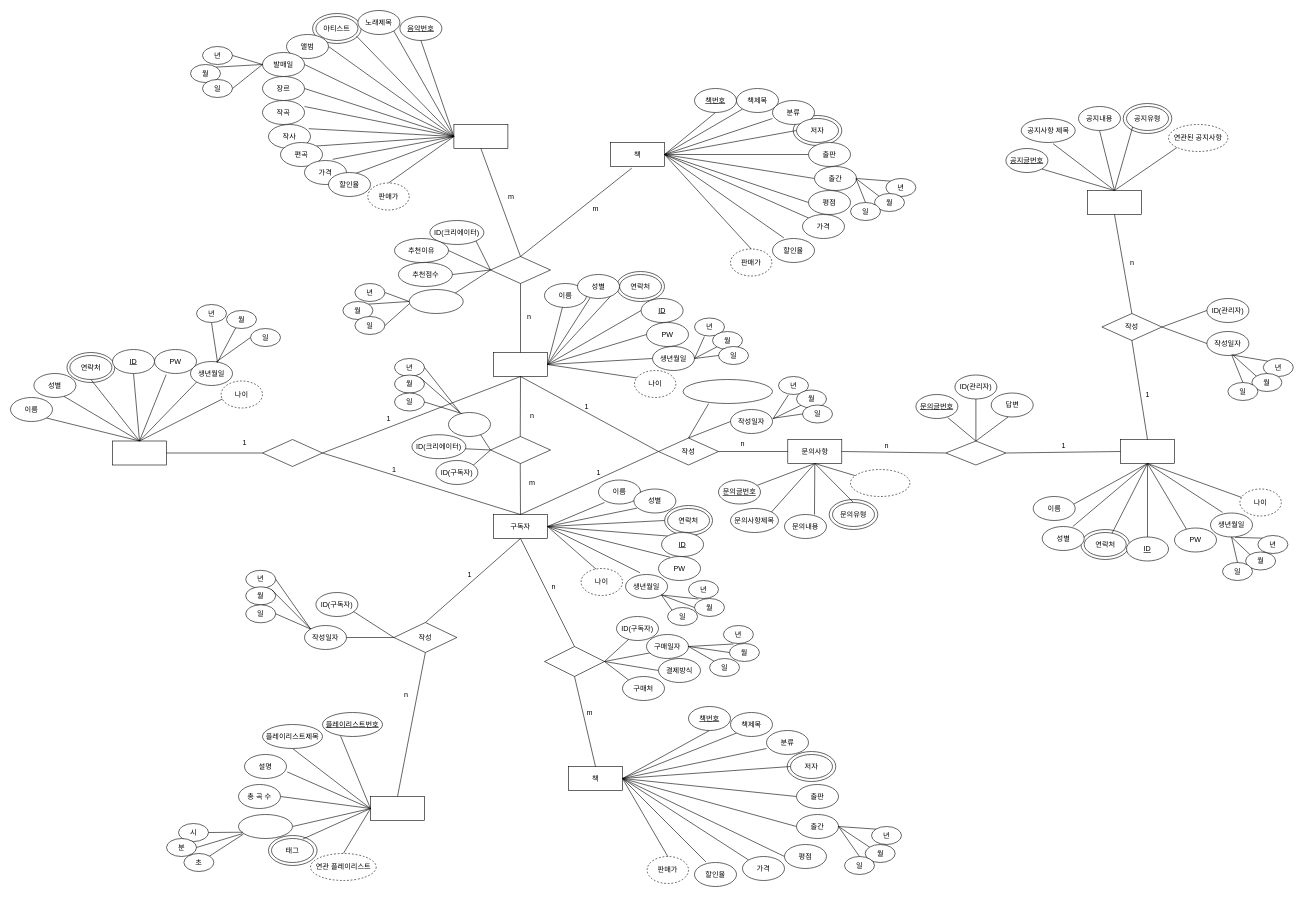
The diagram is 1304 pixels wide and 897 high, and some of its shapes have lost their labels. Here are the shapes that lost their labels. From the top down, the centre of each, then its label:
At [480,136]: "음악".
At [1114,202]: "공지사항".
At [520,270]: "추천".
At [436,301]: "추천날짜".
At [520,364]: "크리에이터".
At [727,391]: "ID(구독자or크리에이터)".
At [469,424]: "구독일자".
At [139,452]: "회원".
At [292,452]: "설정".
At [520,450]: "구독".
At [975,452]: "응답".
At [1147,451]: "관리자".
At [880,482]: "연관된 문의사항".
At [574,661]: "구매".
At [265,826]: "총 플레이 시간".
At [397,808]: "플레이리스트".
